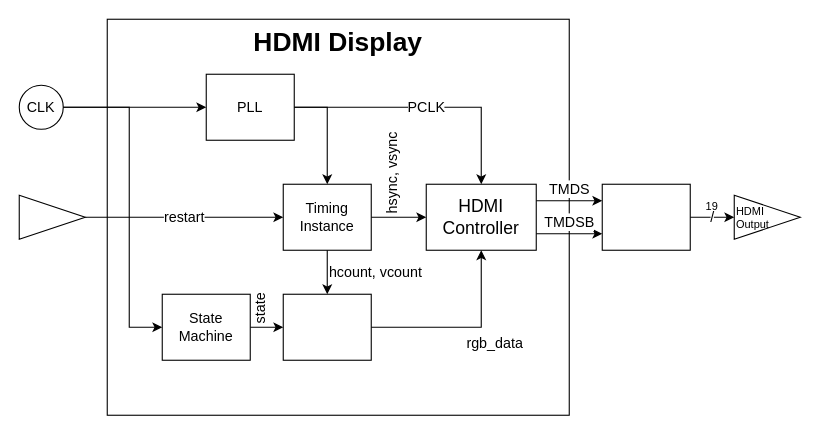
Some shapes in this 820 by 435 pixel diagram are drawn without their labels. Each missing label, with the centre of its shape:
Box Draw: [326,326]
Provided Logic: [645,216]
psh btn: [51,216]
